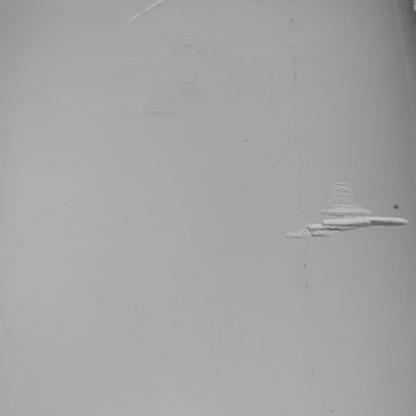sunshang: (291, 179, 414, 239), (133, 1, 171, 21)
